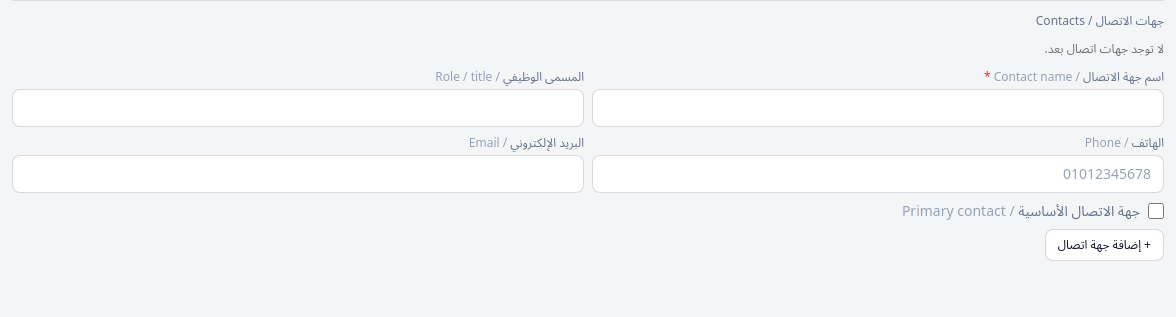
Scenario: SupplierContactsSection › adds a new contact scoped to the supplier and refreshes the list
Expected: the text "لا توجد جهات اتصال بعد." is shown, [1044,40,1164,57]
Type "سارة أحمد" into the field labelled "اسم جهة الاتصال / Contact name *" at (878, 108), box [592,89,1164,127]
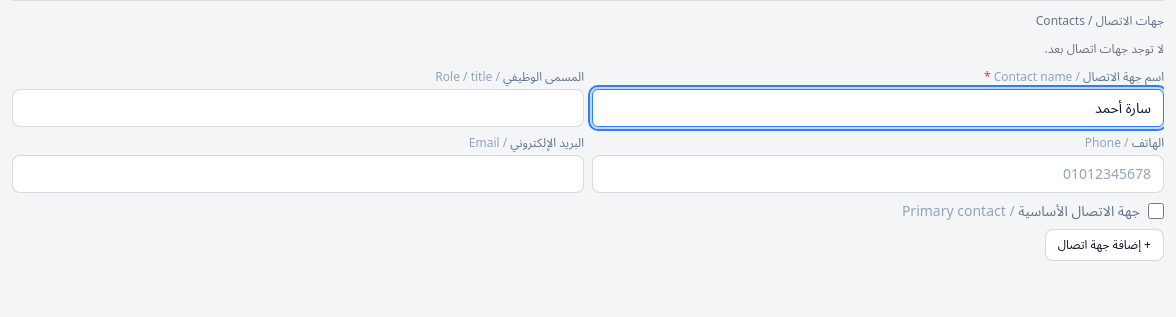
Click the button "+ إضافة جهة اتصال" at (1104, 245), box [1045,229,1164,261]
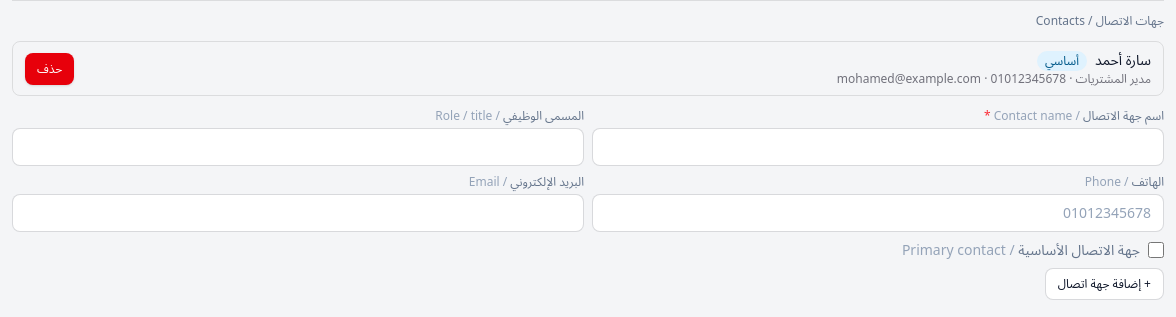
Expected: the text "سارة أحمد" is shown, [1095,50,1151,69]
